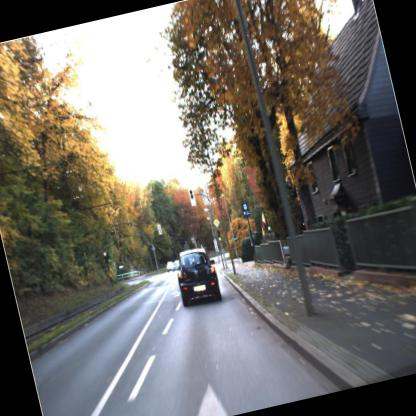other: (212, 214, 223, 232)
